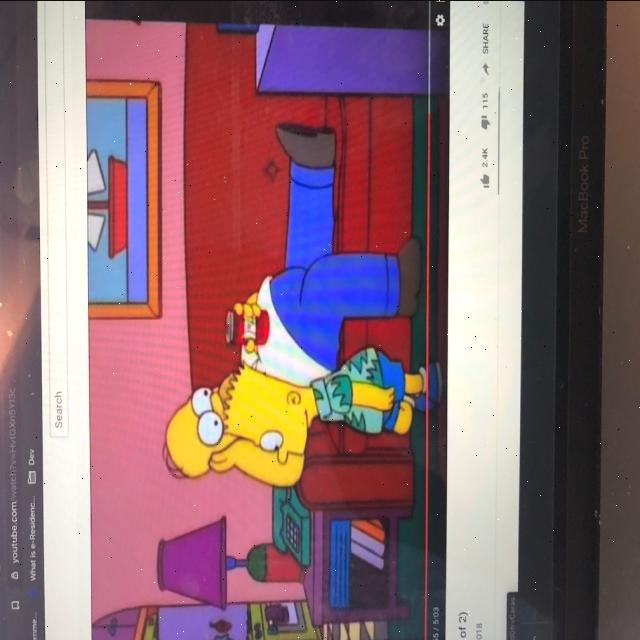Bart Simpson: (219, 359, 318, 467)
Homer Simpson: (159, 367, 231, 483)
